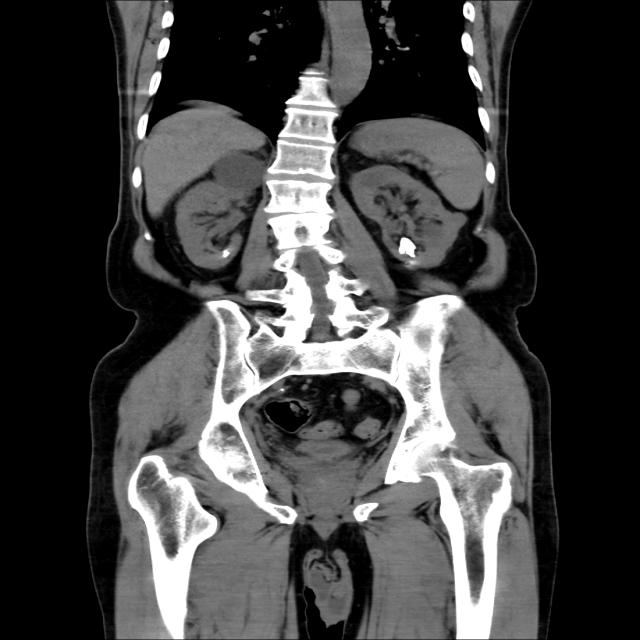kidneystone: (398, 238, 416, 258)
